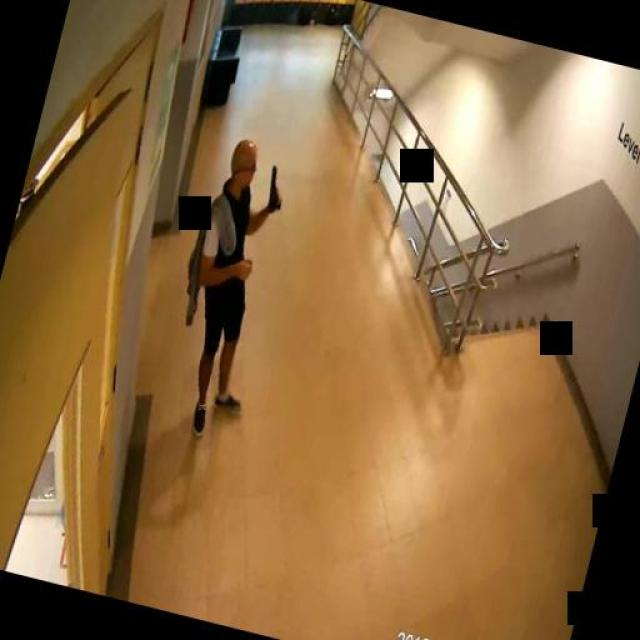gun: (260, 162, 289, 212)
